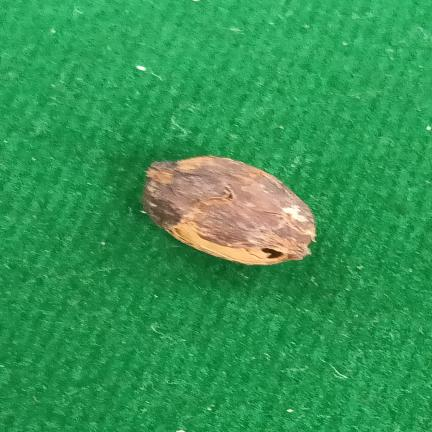husk: (143, 156, 316, 265)
